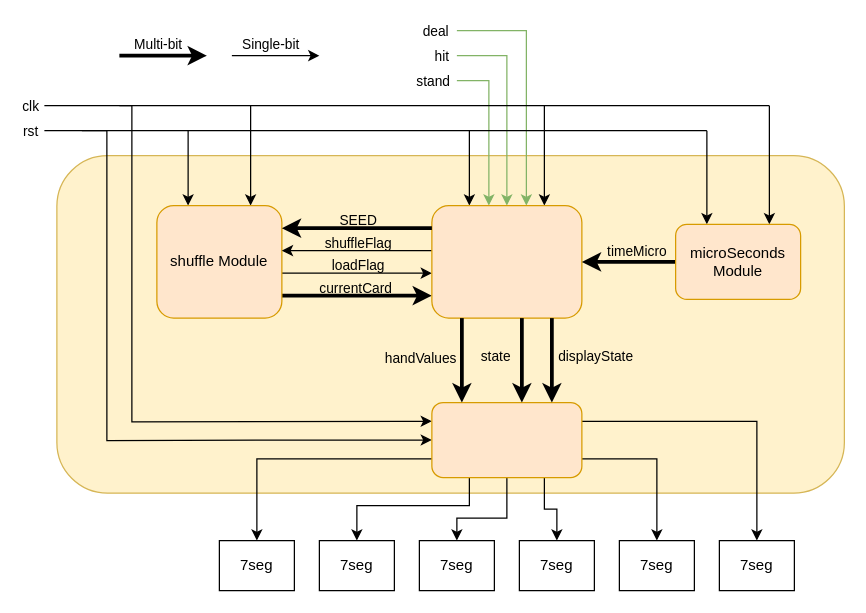
Image size: 866x613. Some labels were removed from this diagram. Here are the shapes that lost their labels. From the top down, the centre of each, then its label:
point (506, 261): blackJackController Module
point (506, 439): display Module
